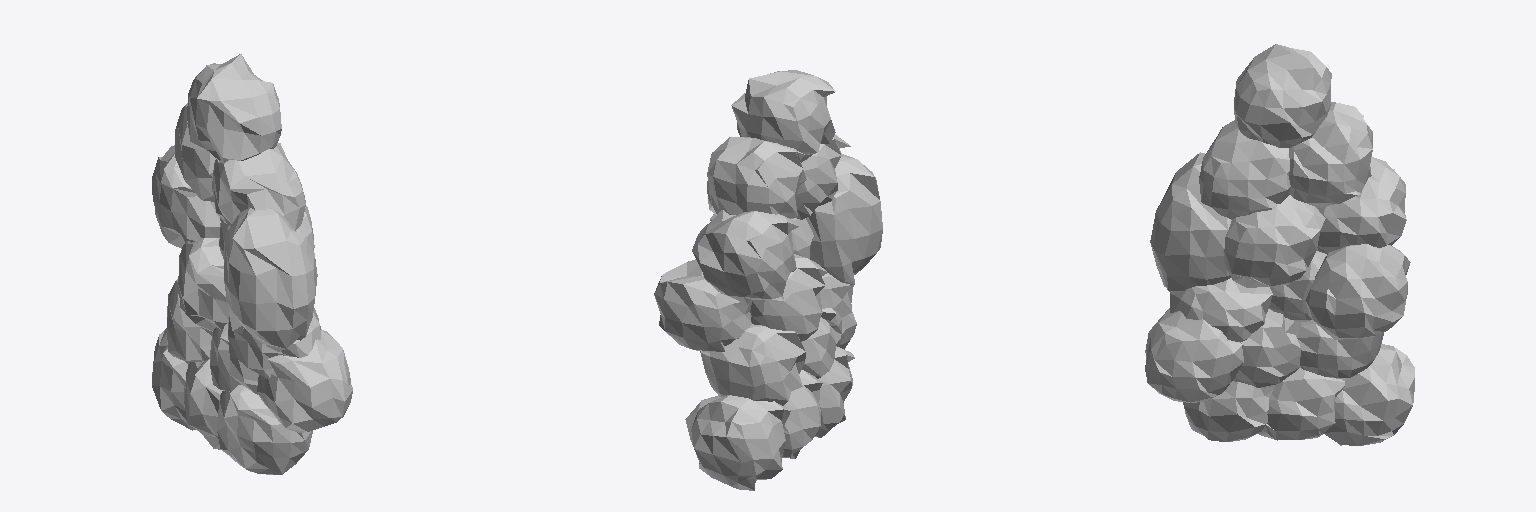
The model's file is rock.obj.
3 renders of one model, left to right at view 1: azimuth 30°, elevation 25°; view 2: azimuth 150°, elevation 25°; view 3: azimuth 270°, elevation 25°, orthographic.
Visible parts, largest first — view 1: Cube.006; view 2: Cube.006; view 3: Cube.006.
Boxes of the visible parts, x1,y1,x2,y2 form: Cube.006: [152, 54, 352, 474]; Cube.006: [654, 70, 882, 490]; Cube.006: [1145, 44, 1414, 445].
Size of the model in its own units: 2.27 by 6.34 by 4.01.